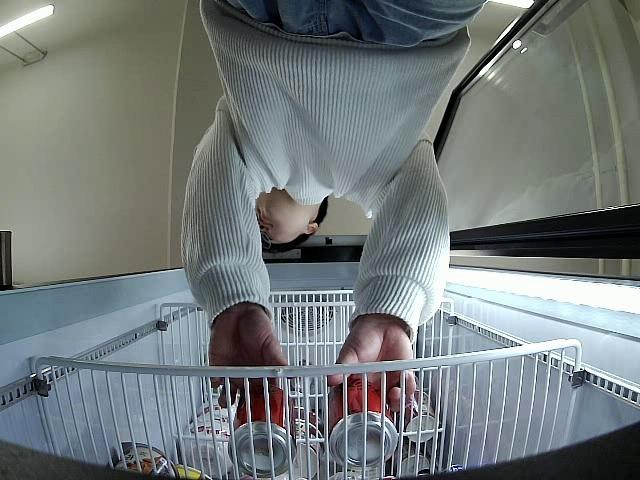11_cocaColaZero: (324, 379, 398, 471), (228, 382, 298, 476)
